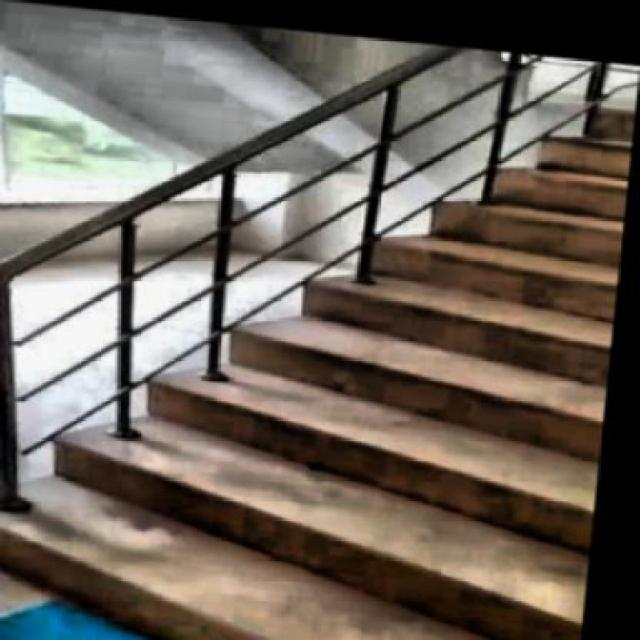stair: (0, 37, 637, 638)
